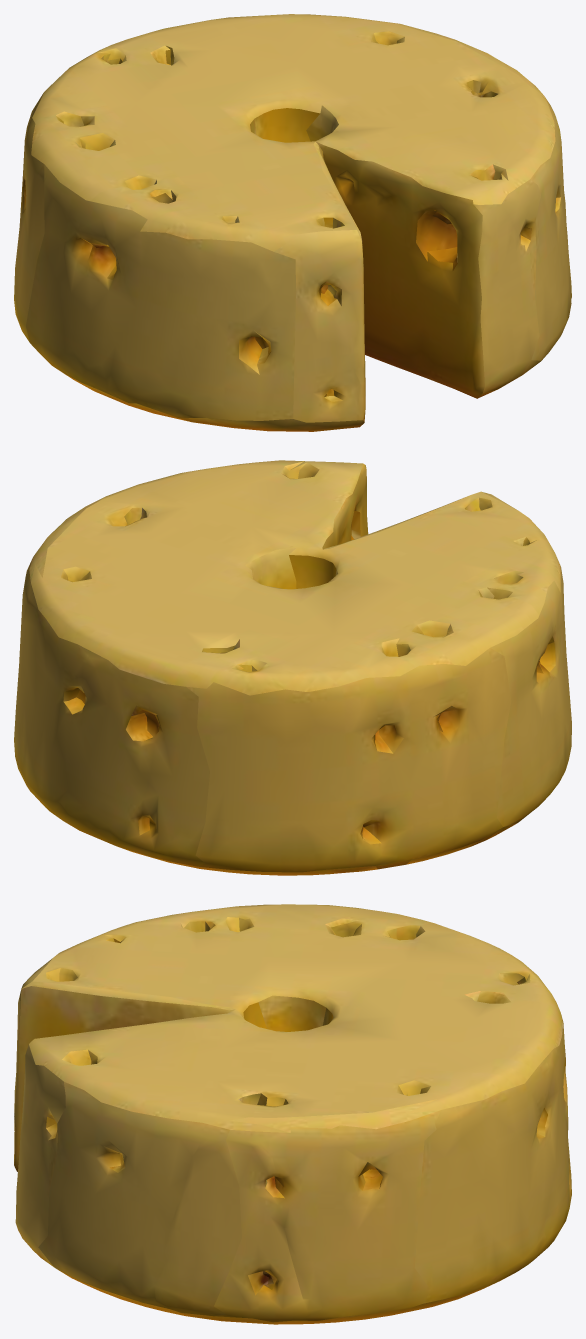
The model's file is cheese.glb.
3 renders of one model, top to bottom at view 1: azimuth 30°, elevation 25°; view 2: azimuth 150°, elevation 25°; view 3: azimuth 270°, elevation 25°, orthographic.
Visible parts, largest first — view 1: cheese; view 2: cheese; view 3: cheese.
Boxes of the visible parts, x1=… form: cheese: x1=14, y1=14, x2=571, y2=431; cheese: x1=14, y1=460, x2=571, y2=875; cheese: x1=14, y1=904, x2=571, y2=1324.
Size of the model in its own units: 1 by 0.3915 by 0.986.
1 material, 1 textured.
